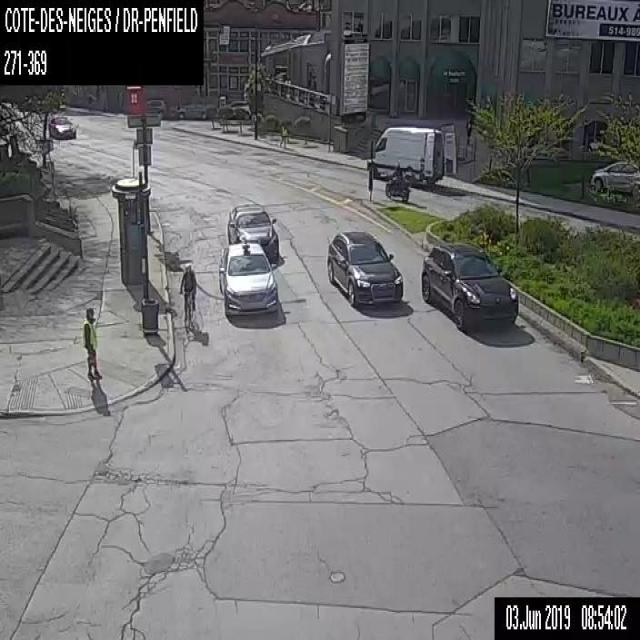cyclist: (178, 263, 196, 325)
pedestrian: (82, 307, 101, 380), (278, 120, 288, 148)
vehicle: (419, 243, 519, 325), (326, 230, 404, 306), (364, 125, 456, 186), (217, 240, 278, 317), (227, 204, 278, 258), (589, 159, 639, 198), (384, 158, 409, 200), (174, 95, 206, 118), (48, 116, 75, 138), (226, 99, 250, 120), (145, 97, 166, 119)
